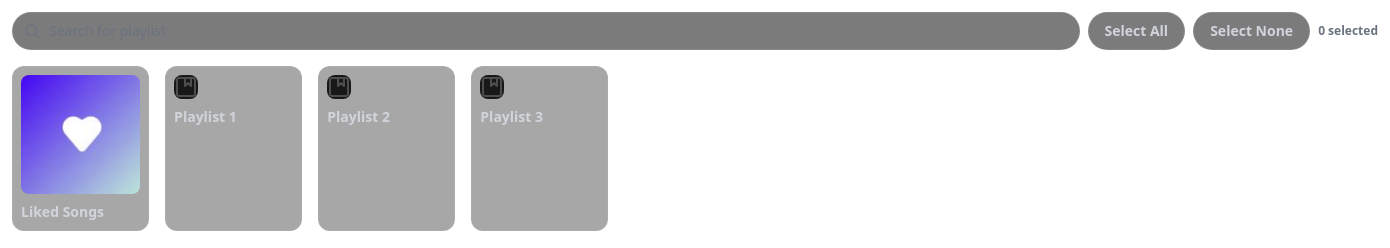
Test: PlaylistInputCardList › filters playlists based on search input
Expected: the text "Playlist 1" is shown, [174, 107, 237, 126]
Expected: the text "Playlist 2" is shown, [327, 107, 390, 126]
Type "1" into the field with placeholder "Search for playlist" at (546, 31), box [12, 12, 1080, 50]
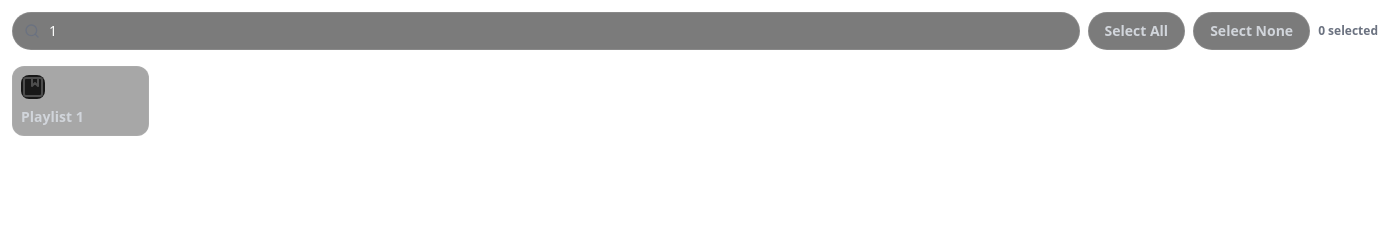
Expected: the text "Playlist 1" is shown, [21, 107, 84, 126]
Expected: the button "Playlist 2" is gone
Expected: the button "Playlist 3" is gone
